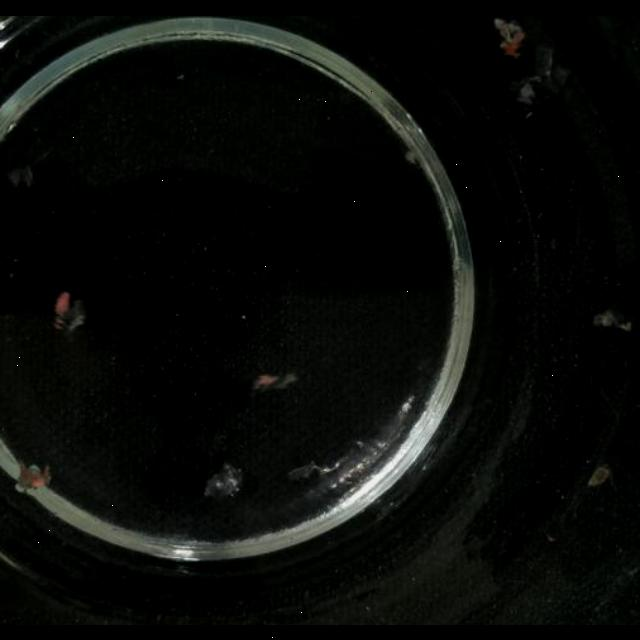Fragment: (54, 290, 88, 332), (494, 16, 526, 56), (15, 462, 51, 492), (594, 308, 632, 332), (253, 372, 297, 392), (8, 165, 34, 188)
